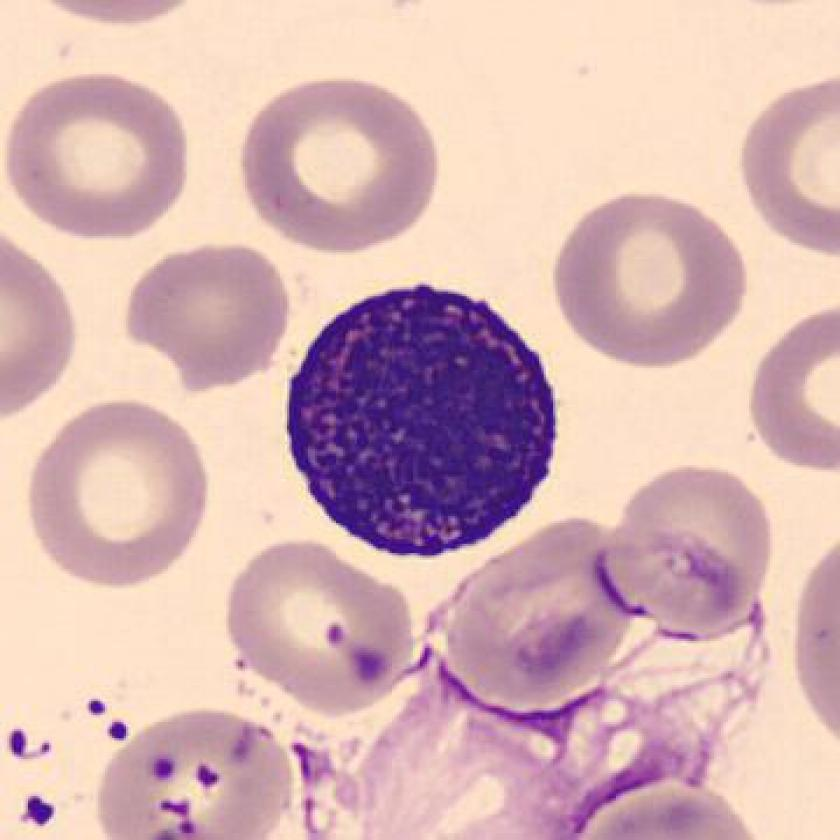basophil: (276, 270, 568, 566)
